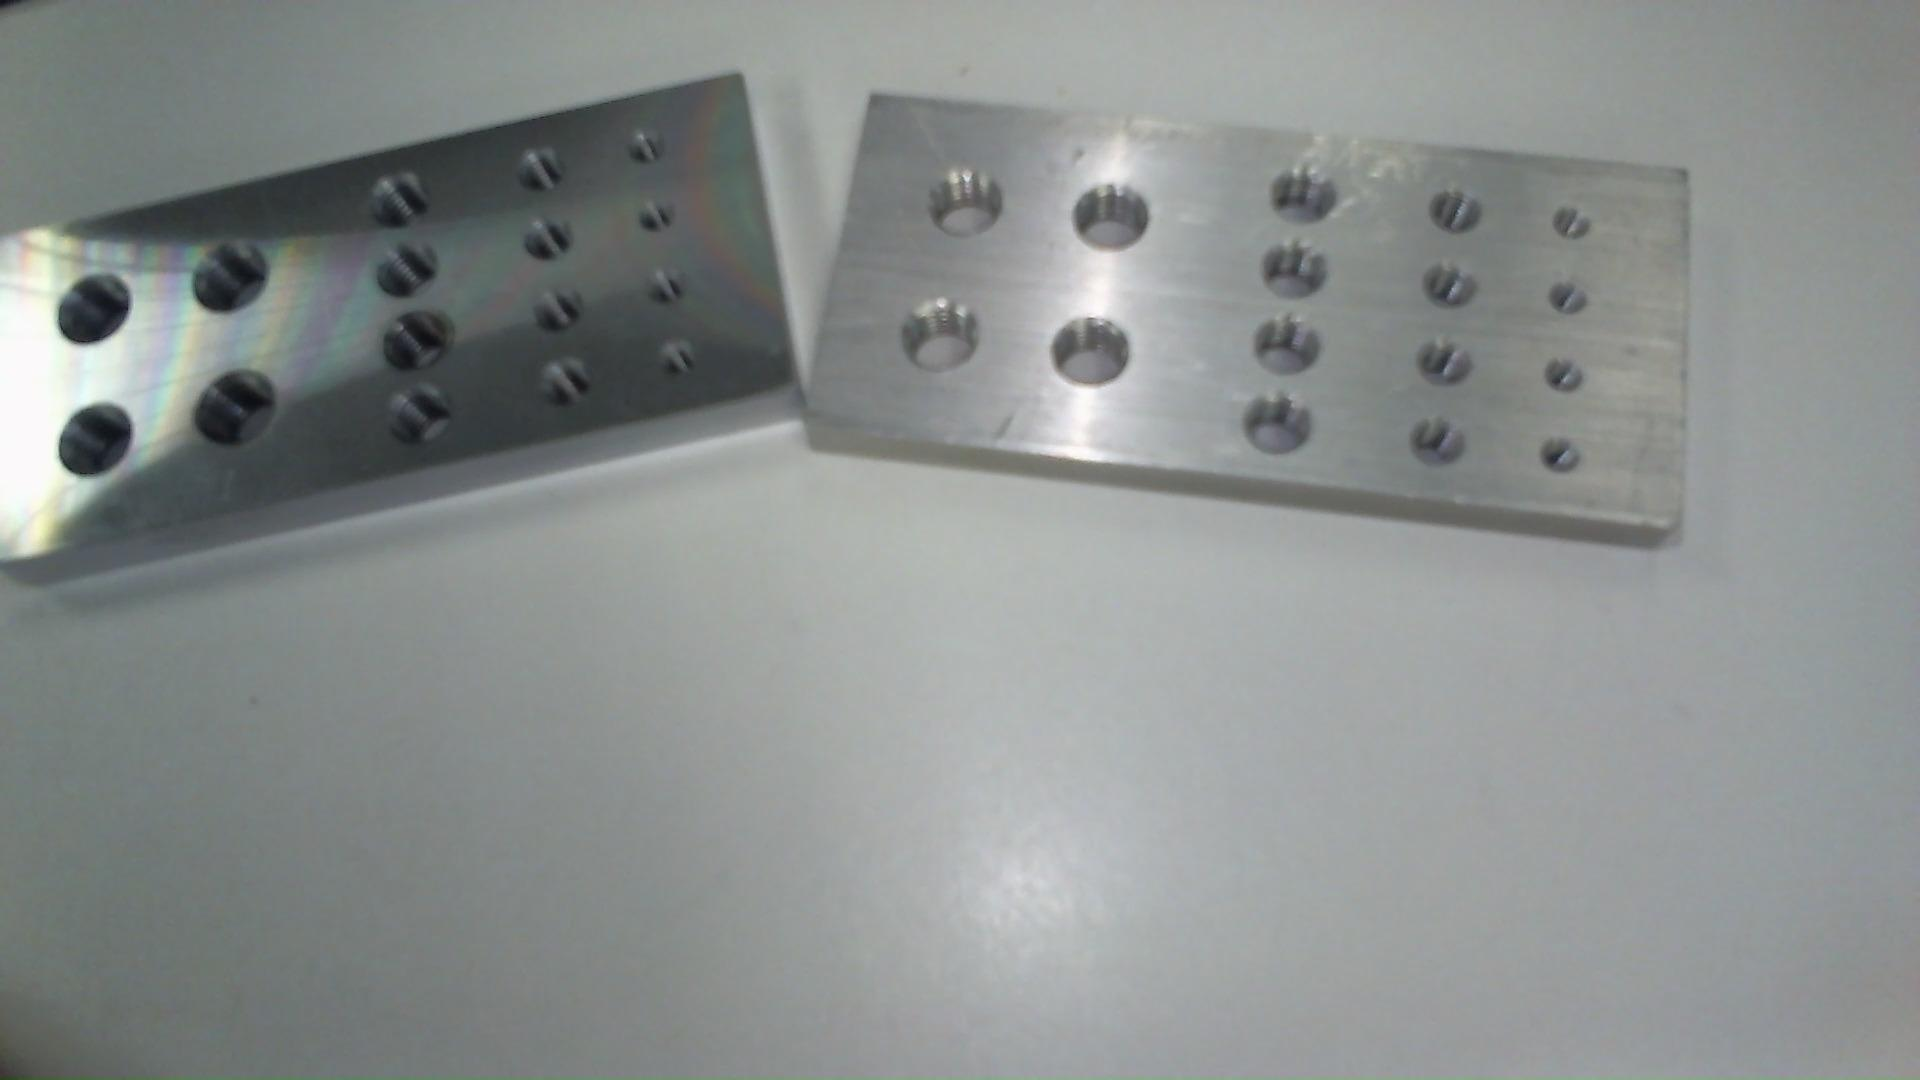hole: (44, 386, 144, 485), (193, 359, 281, 451), (49, 260, 136, 353), (186, 229, 277, 318), (926, 160, 1009, 255), (1051, 309, 1137, 397), (1067, 175, 1156, 260), (902, 295, 984, 378), (378, 302, 464, 377), (1238, 390, 1319, 465), (360, 240, 446, 298), (360, 165, 439, 227), (1266, 165, 1341, 229), (1262, 236, 1335, 302), (385, 386, 459, 451), (538, 353, 611, 417), (1412, 260, 1487, 320), (1404, 410, 1472, 477), (1254, 316, 1320, 381), (513, 141, 571, 208), (1408, 332, 1476, 390), (1423, 185, 1484, 248), (516, 214, 579, 265), (529, 285, 589, 335), (659, 336, 709, 393), (1539, 429, 1592, 481), (1553, 196, 1598, 253), (617, 131, 669, 179), (1543, 277, 1593, 324), (650, 270, 699, 313), (1543, 353, 1589, 397), (637, 190, 676, 237)
